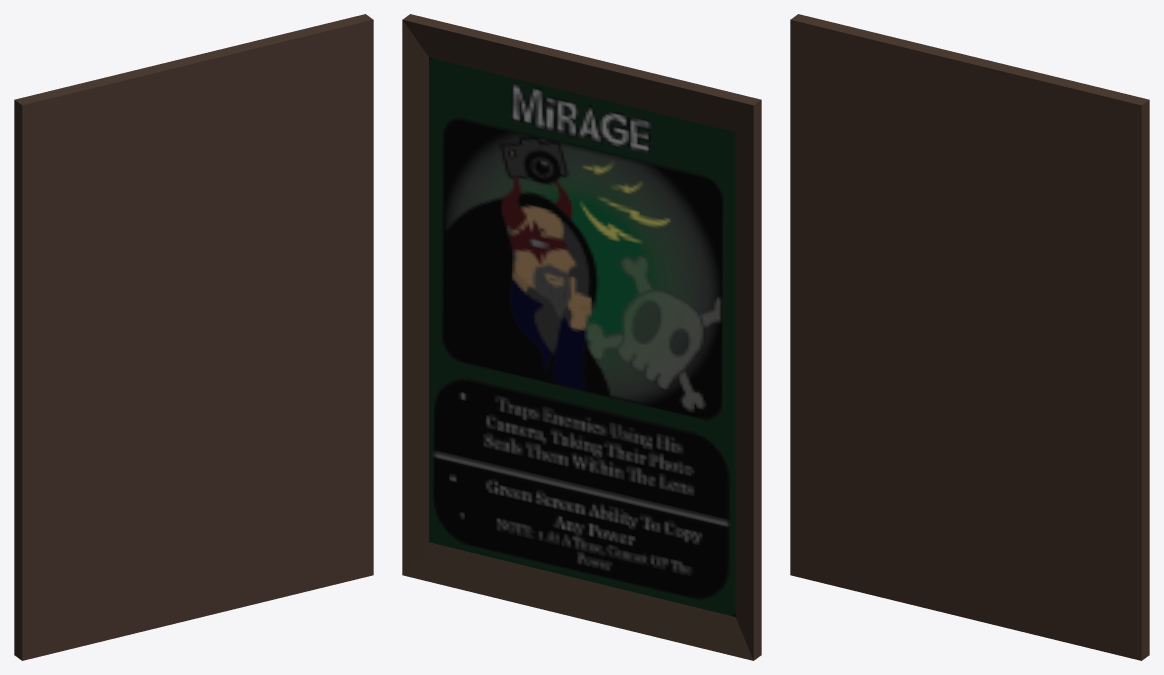
File: GeorgePoster.gltf
3 views of the same model, side by side, from view 1: azimuth 30°, elevation 25°; view 2: azimuth 150°, elevation 25°; view 3: azimuth 330°, elevation 25° (orthographic).
Parts seen in each view (by area): view 1: MiragePoster; view 2: MiragePoster; view 3: MiragePoster.
Part boxes in pixels (x1,y1,x2,y2): MiragePoster: (14, 14, 373, 660); MiragePoster: (402, 14, 761, 660); MiragePoster: (790, 14, 1149, 660).
Size of the model in its own units: 1.1 by 1.67 by 0.0425.
Materials: 1 (1 with a texture image).
